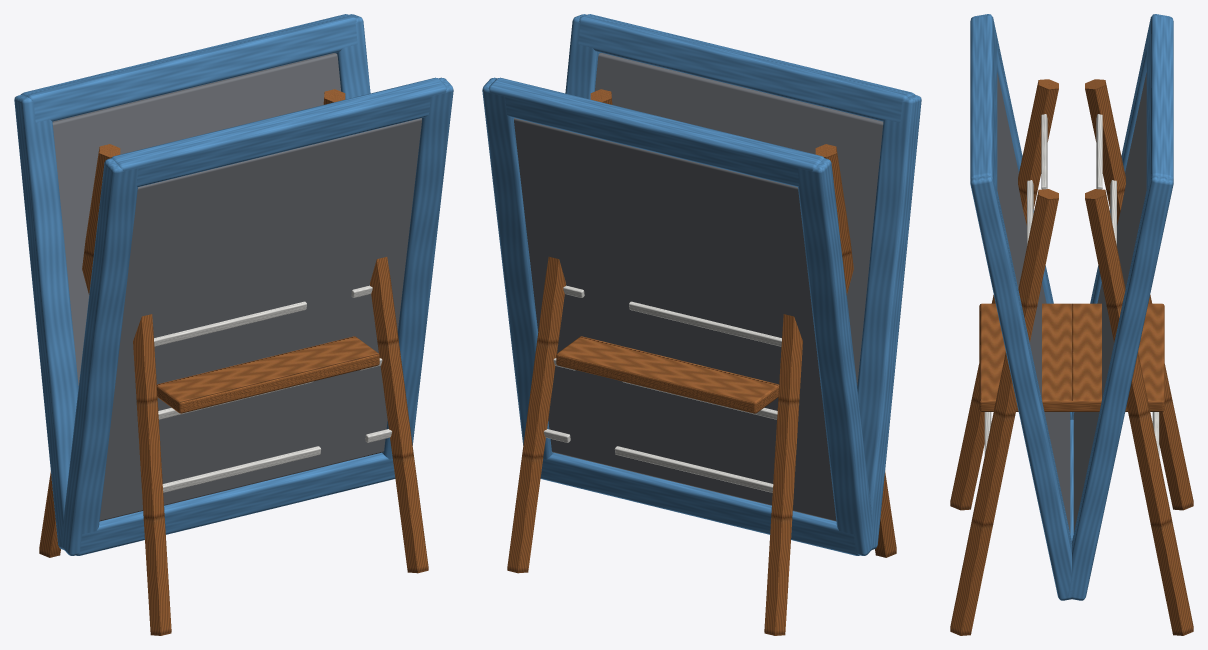
File: greek-island-village-and-harbour-taverna-menu-board-13fdb1fd__37087.glb
3 views of the same model, side by side, from view 1: azimuth 30°, elevation 25°; view 2: azimuth 150°, elevation 25°; view 3: azimuth 270°, elevation 25° (orthographic).
Visible parts, largest first — view 1: taverna-menu-board; view 2: taverna-menu-board; view 3: taverna-menu-board.
Boxes of the visible parts, left/top/right/bottom form: taverna-menu-board: left=14, top=14, right=453, bottom=635; taverna-menu-board: left=482, top=14, right=921, bottom=635; taverna-menu-board: left=950, top=14, right=1193, bottom=635.
Size of the model in its own units: 0.85 by 1.13 by 0.5242.
Materials: 4 (3 with a texture image).
